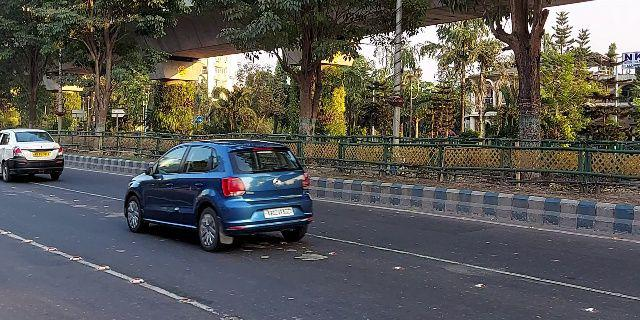Car: (121, 137, 316, 256), (1, 125, 70, 186)
